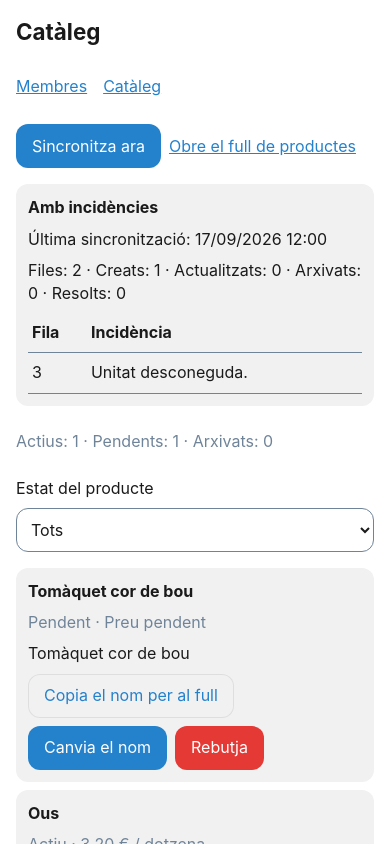
Test: shows sync diagnostics by row, filters products and switches to Spanish
Expected: the text "Unitat desconeguda." is shown, [87,353,362,393]
Expected: the text "3" is shown, [28,353,87,393]
Select "Pendent" in the dropdown. click: [195, 530]
box: [16,508,374,552]
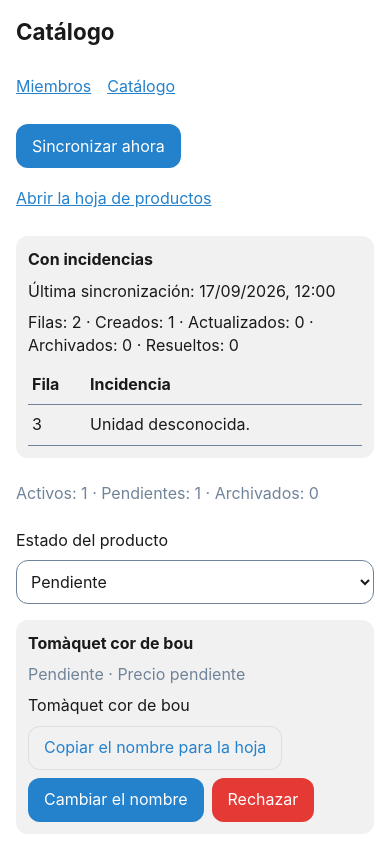
Result: the number of list items with test id "catalog-product" is 1 at [16,620,374,834]
Result: the text "Unidad desconocida." is shown at [86,405,362,445]
Result: the heading reads "Catálogo" at [16,18,115,45]
